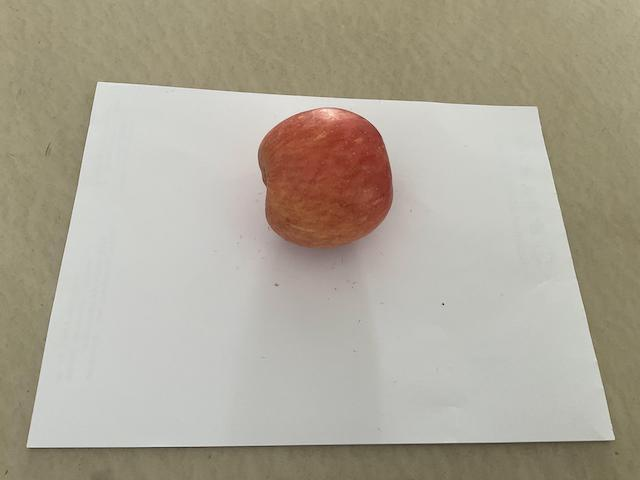apple: (252, 104, 399, 252)
